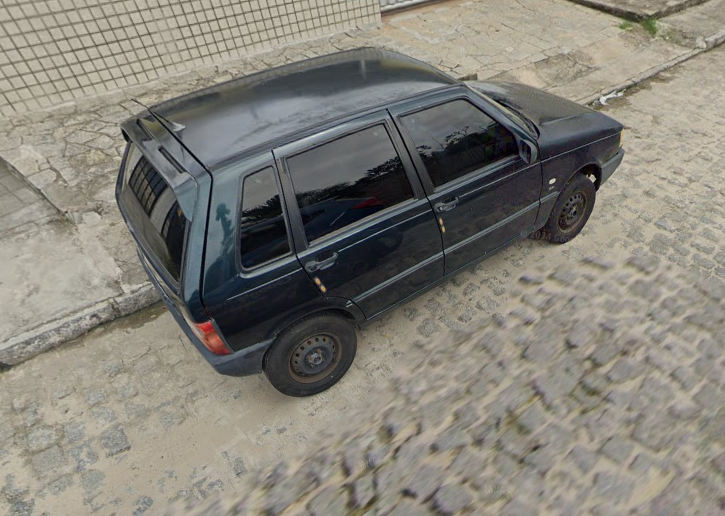car: (114, 44, 628, 397)
